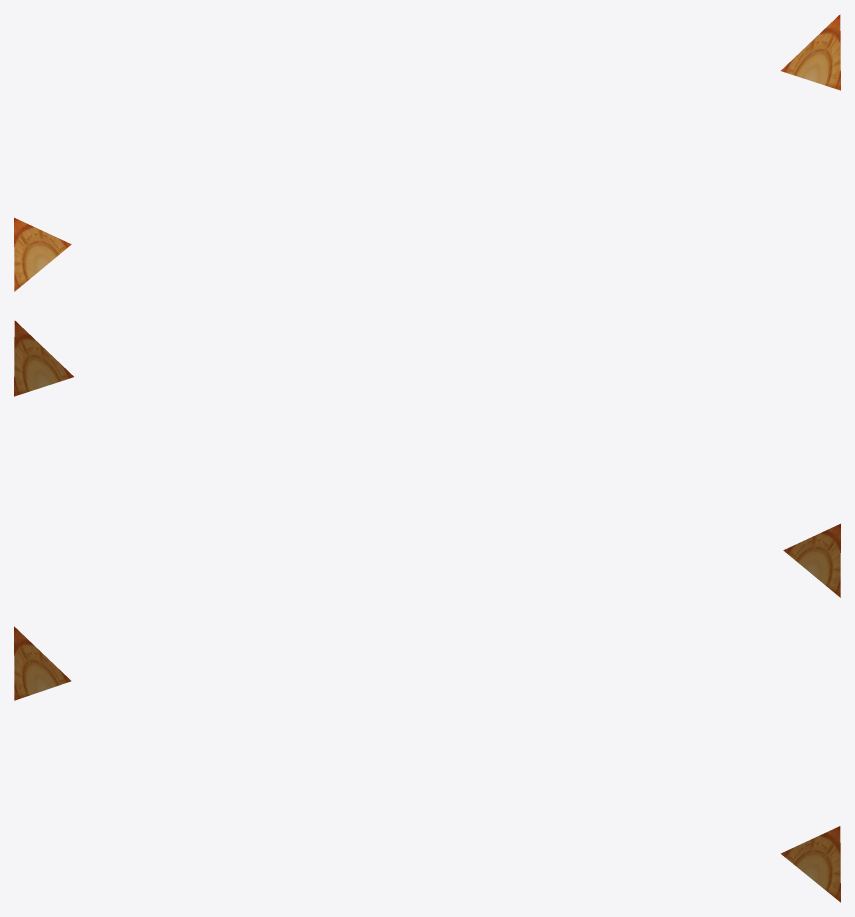
Rendered from hutt_fighter_medium_booster_s01_on_l3.fbx.
3 renders of one model, top to bottom at view 1: azimuth 30°, elevation 25°; view 2: azimuth 150°, elevation 25°; view 3: azimuth 330°, elevation 25°, orthographic.
Visible parts, largest first — view 1: mesh_node; view 2: mesh_node; view 3: mesh_node.
Part boxes in pixels (<box>): mesh_node: <box>14,14,840,291</box>; mesh_node: <box>14,320,840,597</box>; mesh_node: <box>14,626,840,902</box>.
Size of the model in its own units: 3.21 by 0.2848 by 0.
Materials: 1 (1 with a texture image).
